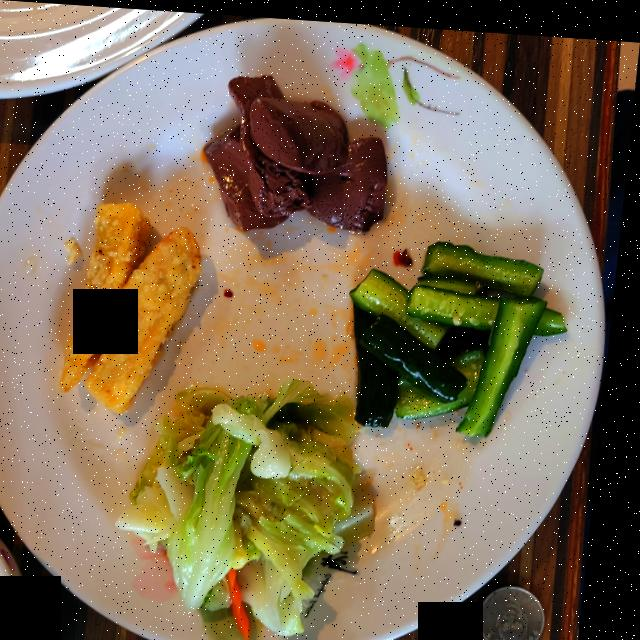cabbage: (128, 375, 386, 635)
coin: (491, 578, 558, 640)
cucumber: (356, 235, 573, 429)
pig blood curd: (207, 72, 390, 226)
